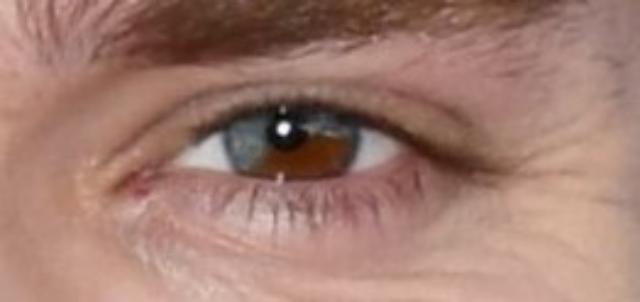eye: (222, 95, 364, 181)
